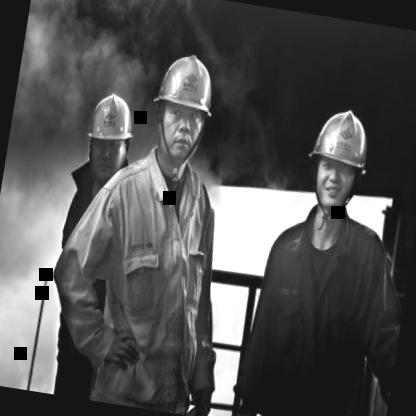helmet: (142, 40, 229, 176), (294, 93, 374, 224), (75, 81, 144, 186)
